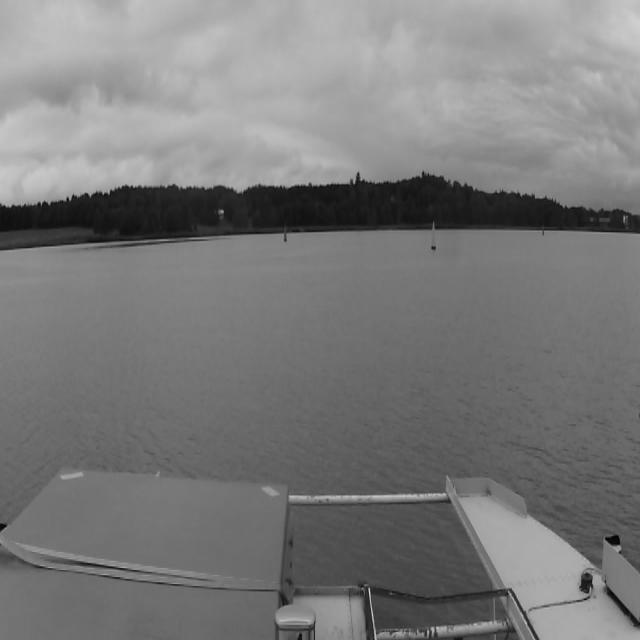buoy: (432, 220, 436, 250), (284, 222, 287, 242)
